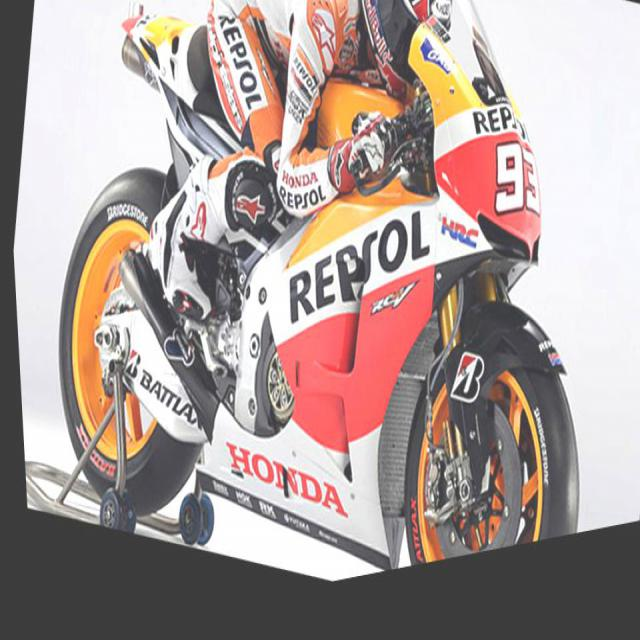HRC RCV 213: (16, 0, 639, 637)
